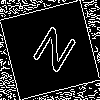N: (25, 25, 79, 82)
